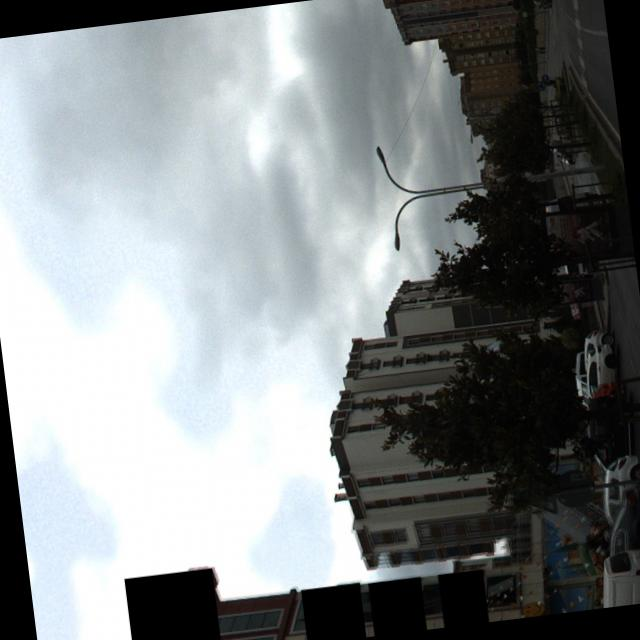SignStore: (159, 568, 212, 640), (324, 582, 360, 640), (386, 575, 421, 634), (451, 568, 483, 626)
